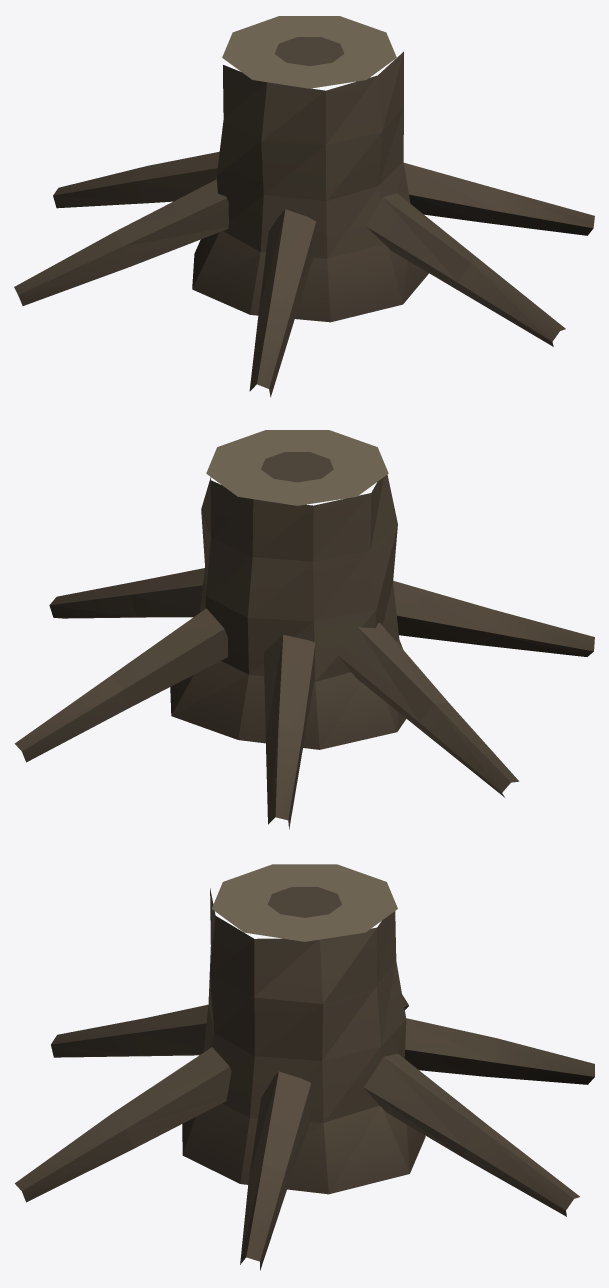
File: totholz_wurzel.glb
3 views of the same model, one above another, from view 1: azimuth 30°, elevation 25°; view 2: azimuth 150°, elevation 25°; view 3: azimuth 270°, elevation 25° (orthographic). The views are drawn at different scales.
Parts seen in each view (by area): view 1: totholz_wurzel; view 2: totholz_wurzel; view 3: totholz_wurzel.
Boxes of the visible parts, x1,y1,x2,y2 form: totholz_wurzel: (14, 16, 594, 397); totholz_wurzel: (14, 430, 594, 829); totholz_wurzel: (15, 864, 594, 1270).
Bounding box in the file's own units: 2.36 × 0.9999 × 2.18.
